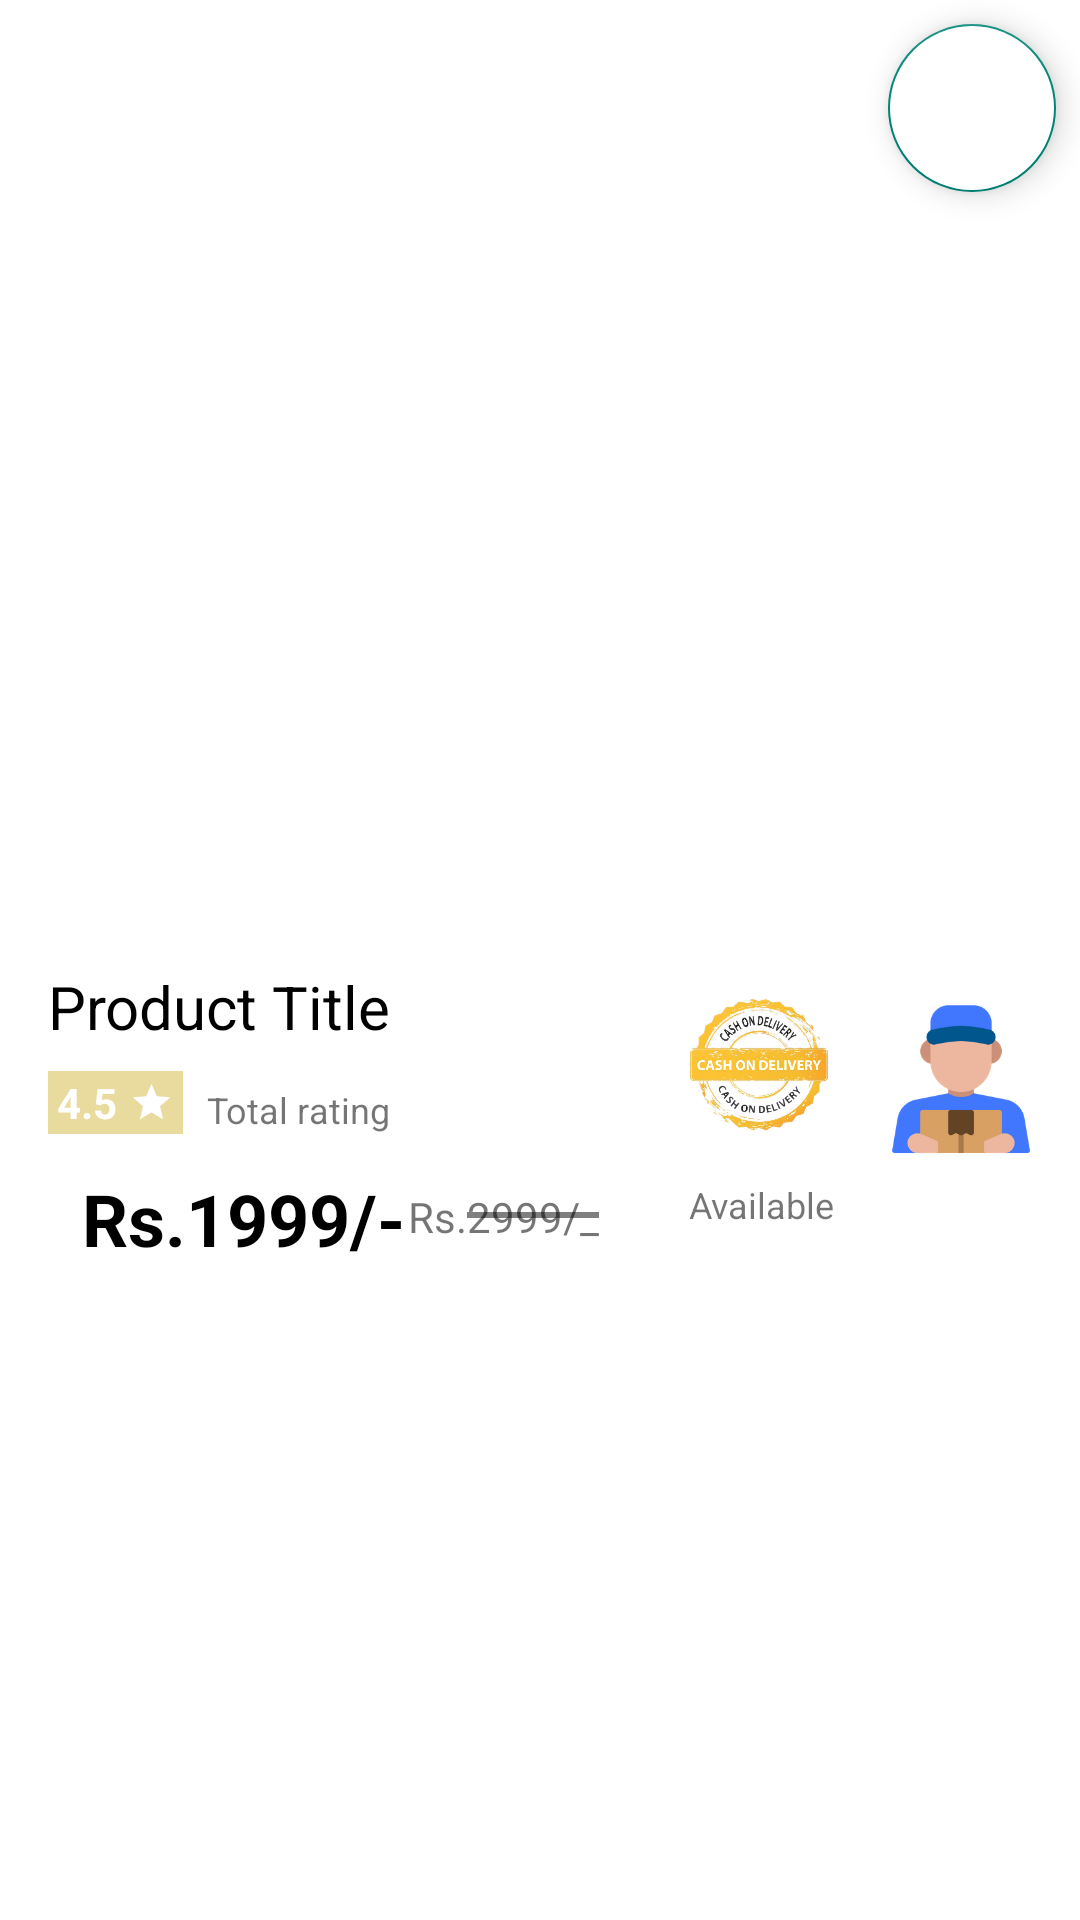

Named icons in this screenshot (1080 × 1920) and their centers, [x,y]:
delivery: [961,1079]
star: [151,1101]
